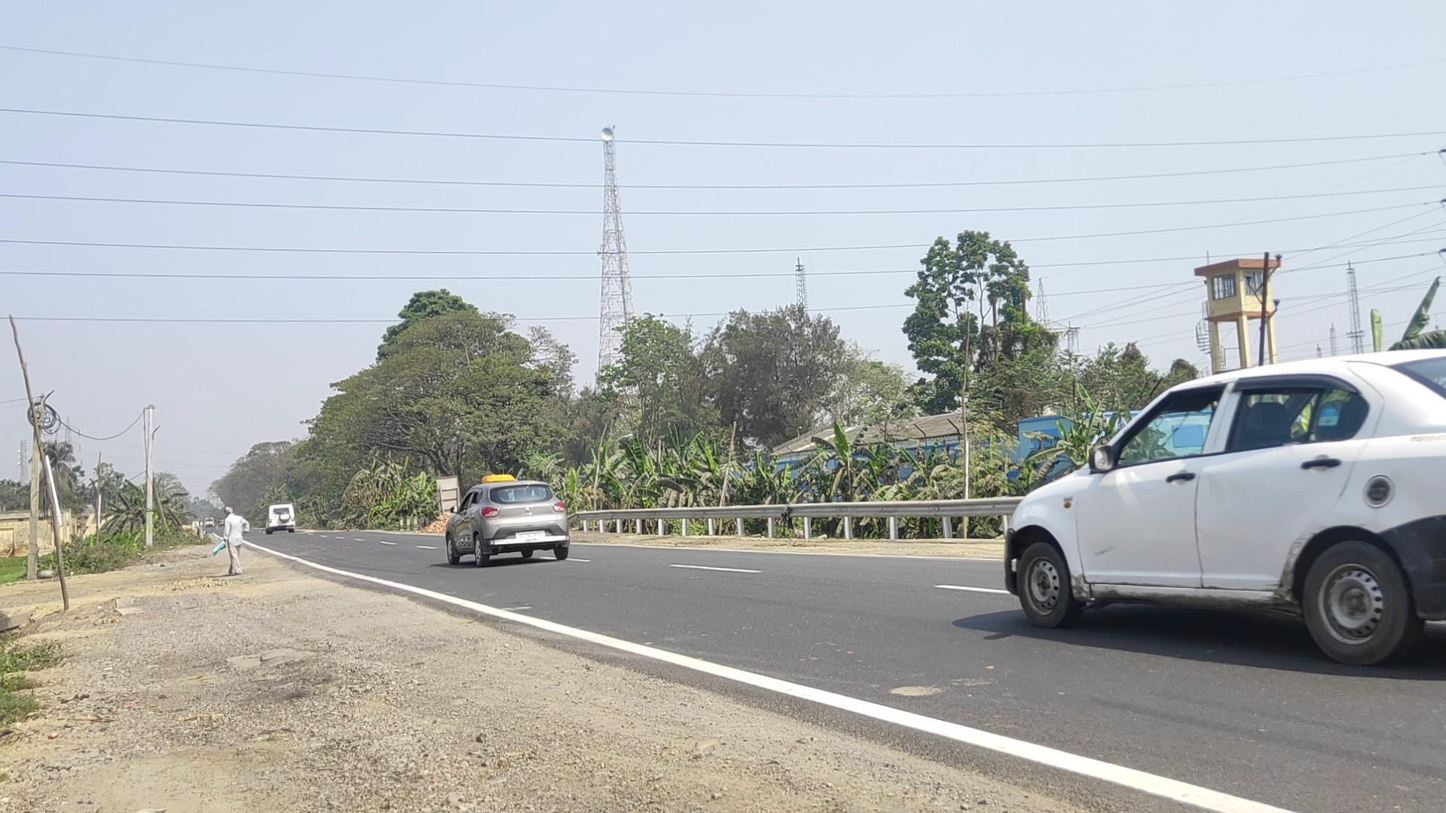car: (1004, 348, 1446, 668), (445, 480, 570, 568), (266, 503, 296, 534)
